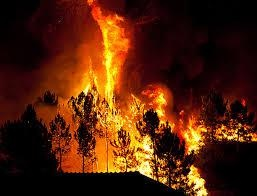fire: (45, 12, 247, 174)
